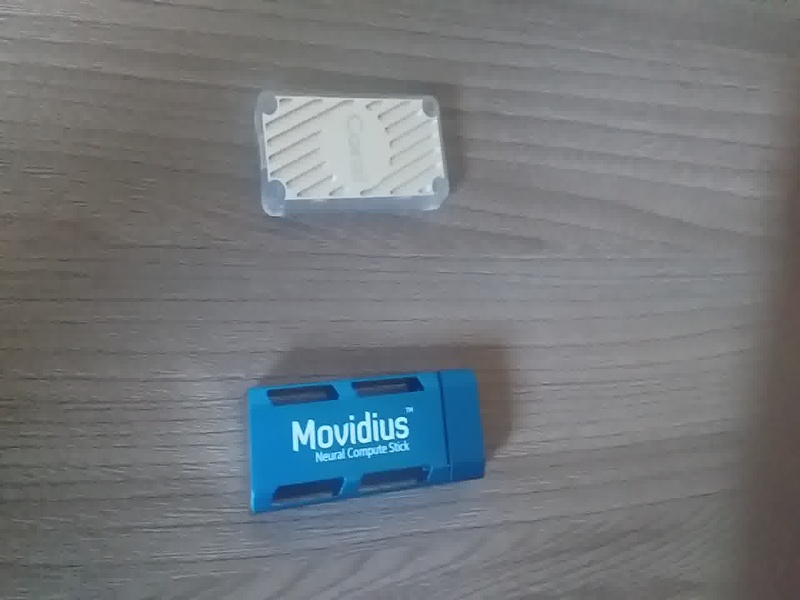coral: (243, 82, 463, 234)
movidius: (236, 368, 503, 504)
